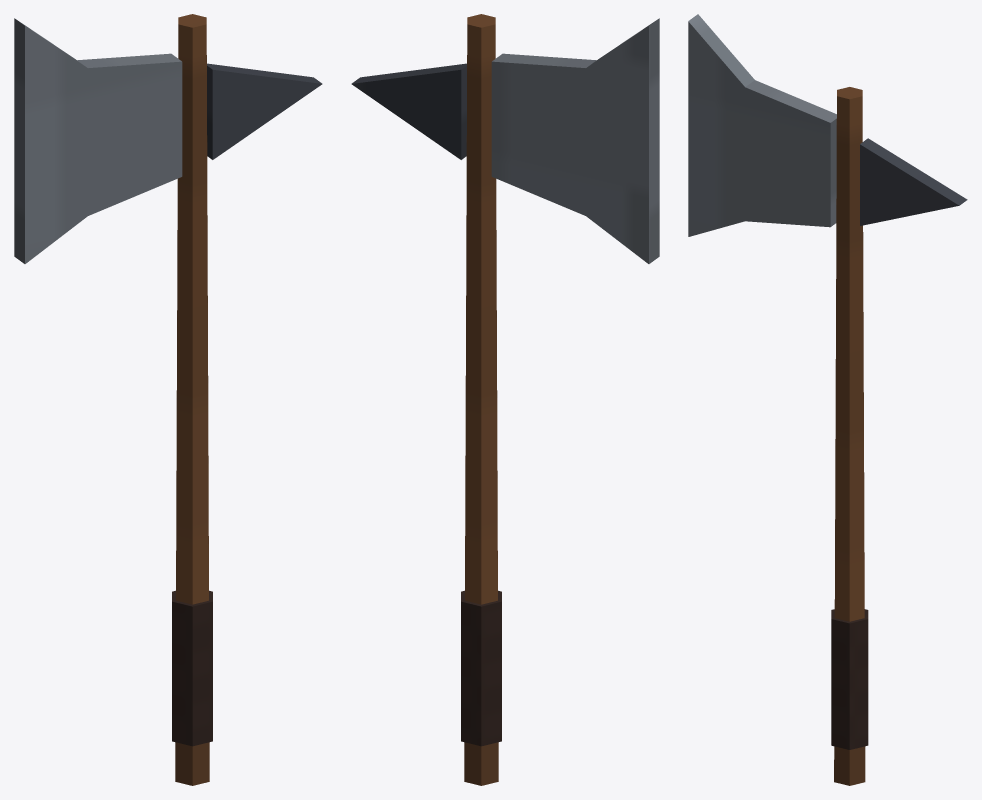
The model's file is SM_Prop_BoardingAxe_HQ.glb.
3 views of the same model, side by side, from view 1: azimuth 30°, elevation 25°; view 2: azimuth 150°, elevation 25°; view 3: azimuth 330°, elevation 25° (orthographic). The views are drawn at different scales.
Parts seen in each view (by area): view 1: SM_Prop_BoardingAxe_HQ; view 2: SM_Prop_BoardingAxe_HQ; view 3: SM_Prop_BoardingAxe_HQ.
Part boxes in pixels (x1,y1,x2,y2): SM_Prop_BoardingAxe_HQ: (14, 14, 322, 785); SM_Prop_BoardingAxe_HQ: (351, 14, 659, 785); SM_Prop_BoardingAxe_HQ: (688, 14, 967, 785).
Size of the model in its own units: 0.38 by 0.97 by 0.045.
1 material, 1 textured.
